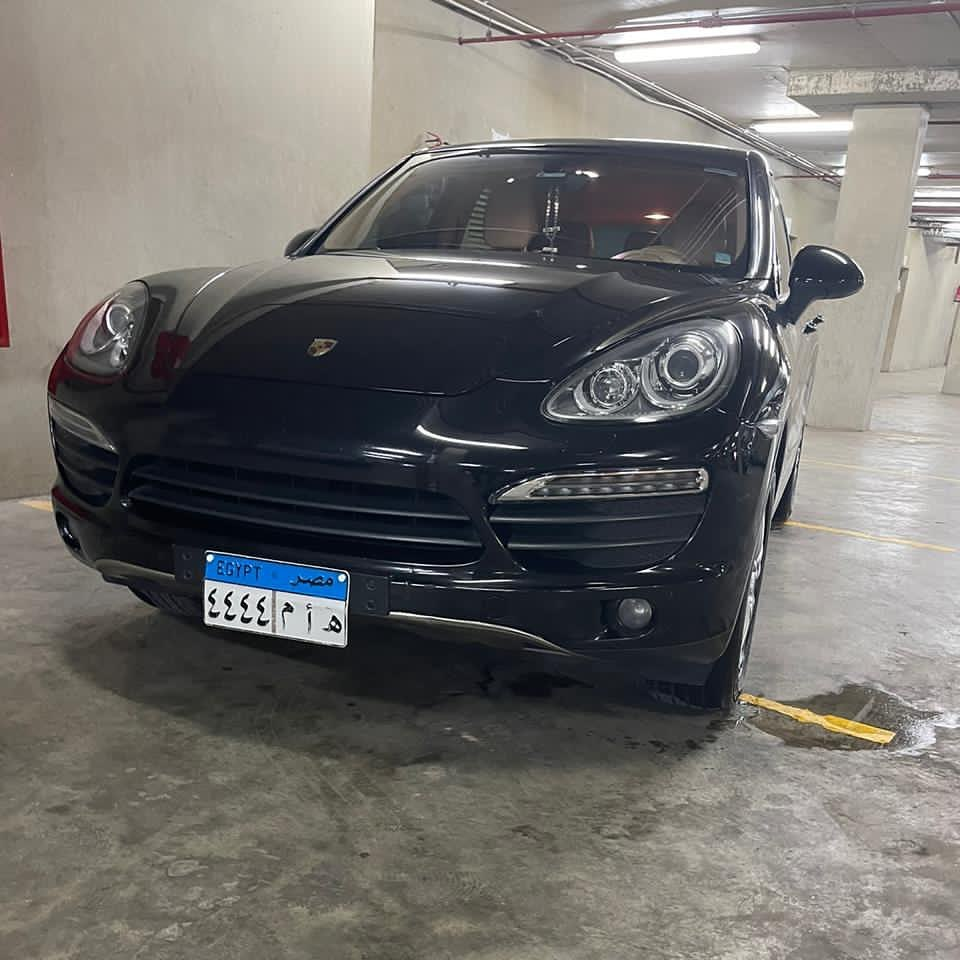carpl: (200, 541, 347, 650)
